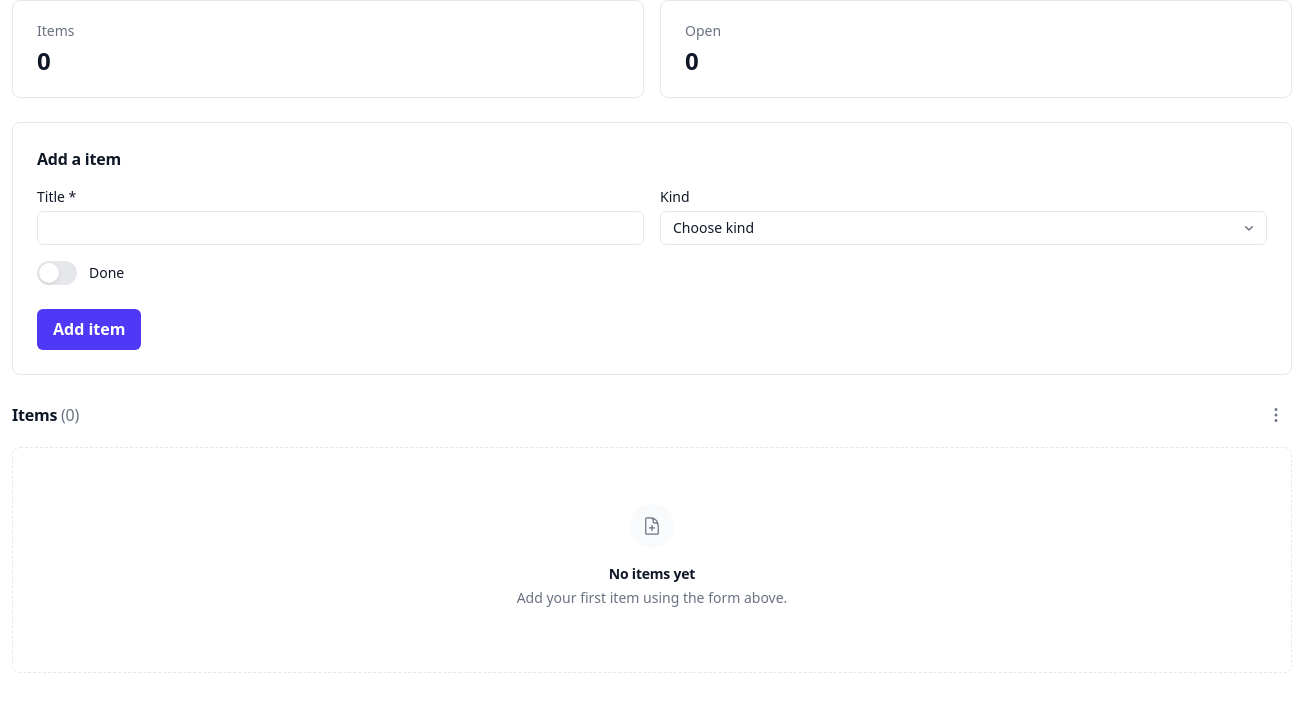
it: collection view › refuses to add a record with a missing required field
Click the button "Add item".
click(89, 329)  # box [37, 309, 142, 350]
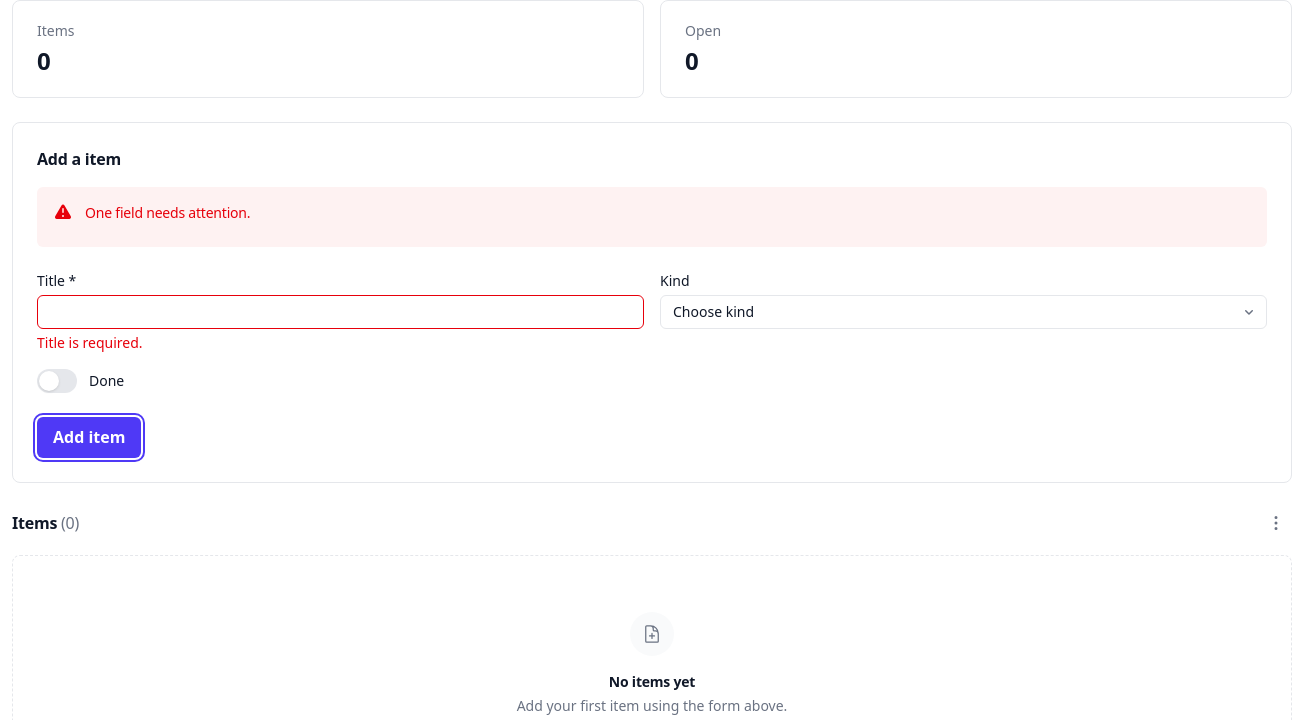
expect the heading "No items yet" is shown: met, box [609, 672, 695, 691]
expect the text "Title is required." is shown: met, box [37, 333, 143, 352]
